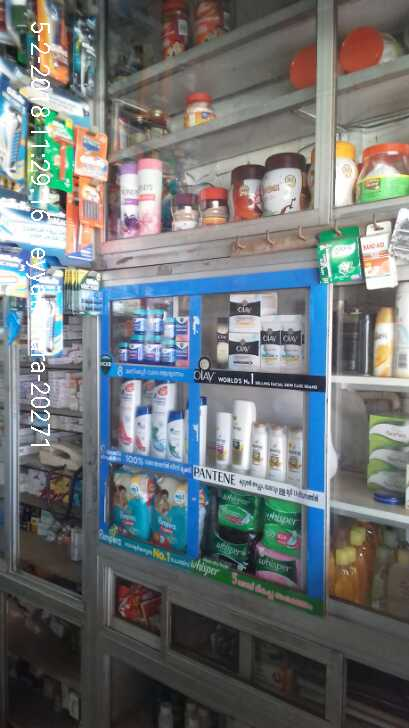vicks: (120, 303, 194, 371)
